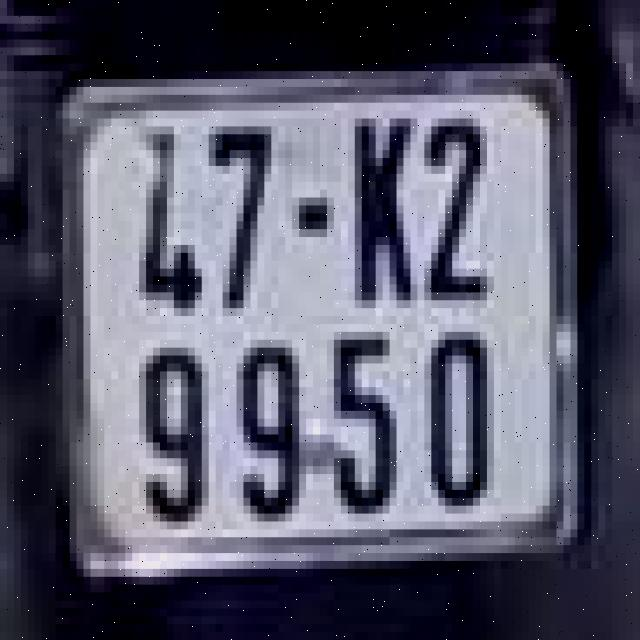0: (414, 332, 497, 521)
2: (424, 111, 494, 300)
4: (125, 103, 209, 332)
5: (327, 324, 403, 514)
7: (205, 103, 282, 316)
9: (223, 332, 306, 529), (129, 348, 219, 529)
K: (337, 103, 414, 316)
